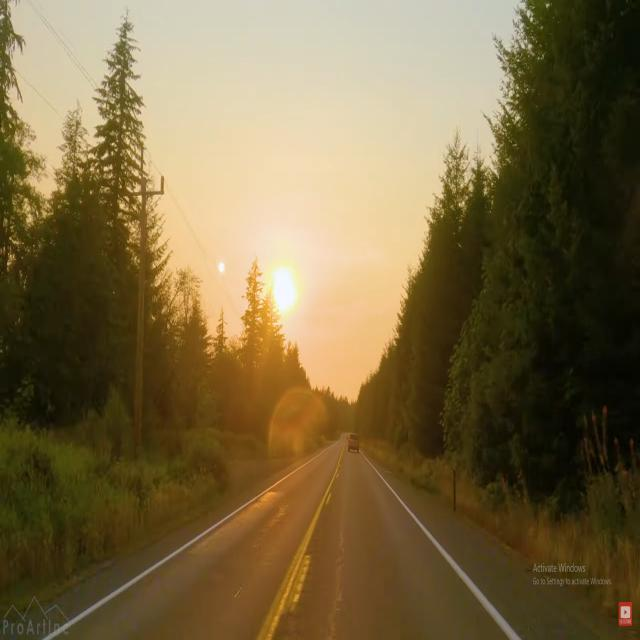sun: (270, 249, 302, 328)
